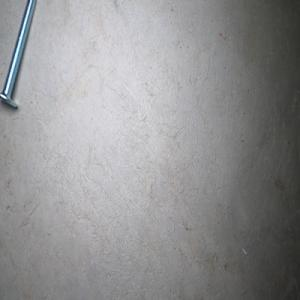Bolt: (0, 0, 36, 108)
